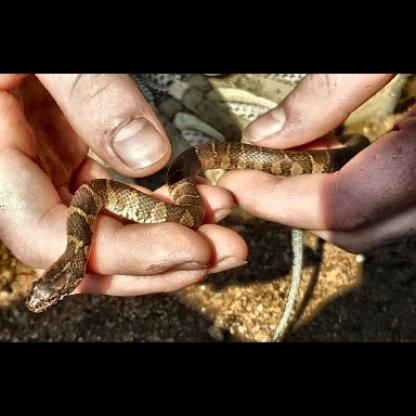Snake: (20, 80, 402, 341)
